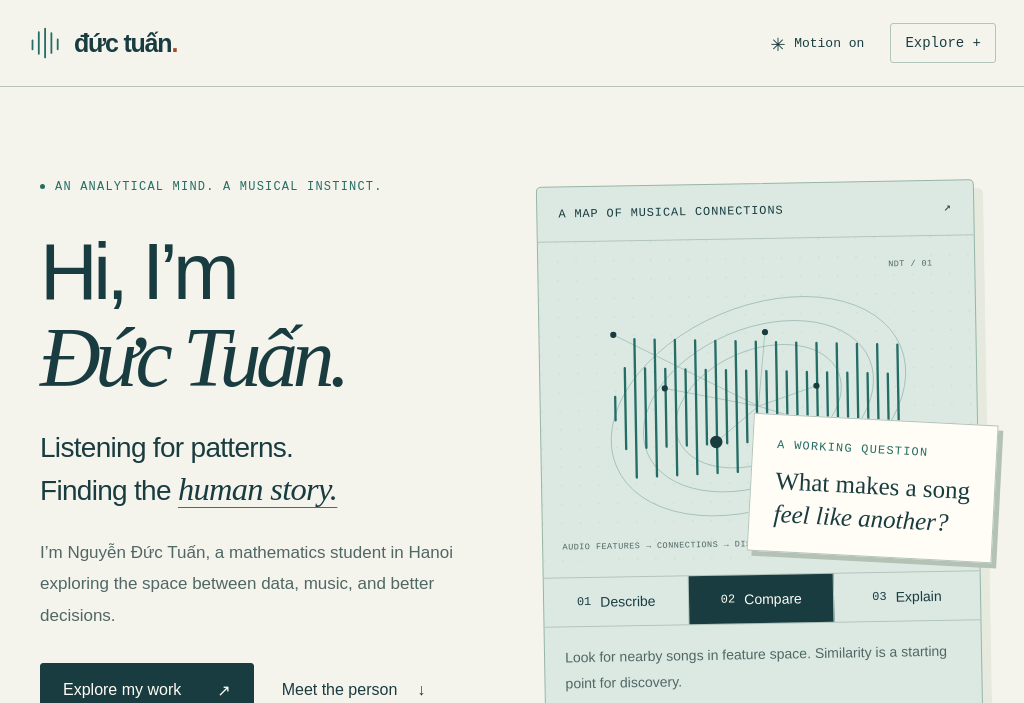
it: Reference-informed public portfolio › opens the compact menu, navigates to a real section, and closes it
Click the button with test id "mobile-menu-toggle" at (943, 43), box x1=890 y1=23 x2=996 y2=63
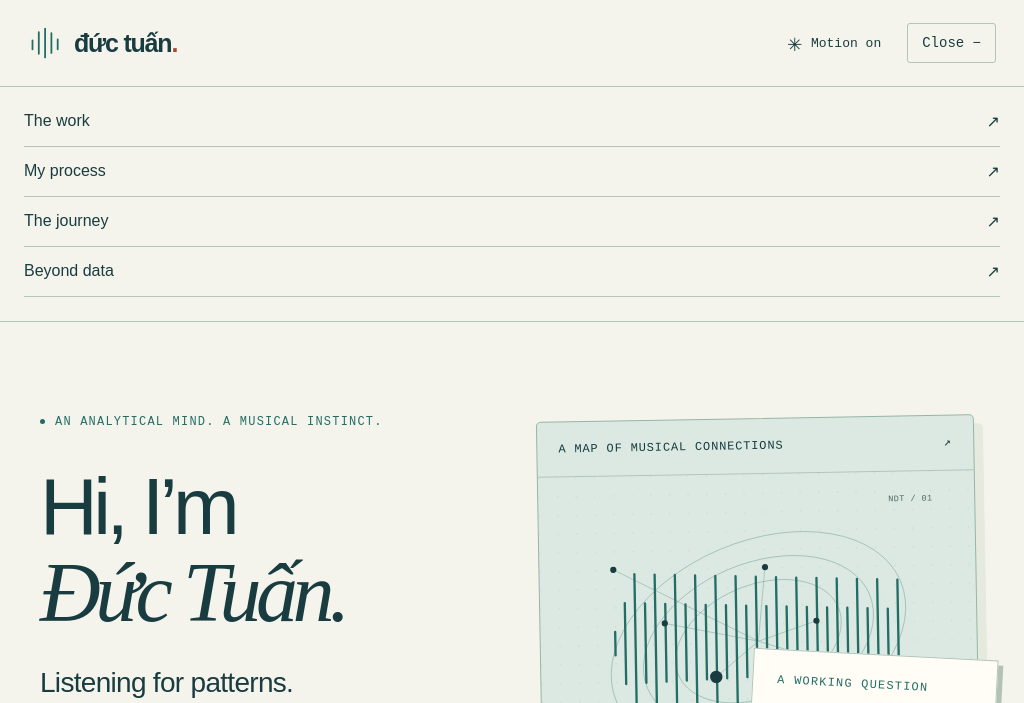
Result: the button with test id "mobile-menu-toggle" is expanded at x1=907 y1=23 x2=996 y2=63
Click the link "The work ↗" at (57, 120), box x1=24 y1=97 x2=1000 y2=147
(page scrolled)
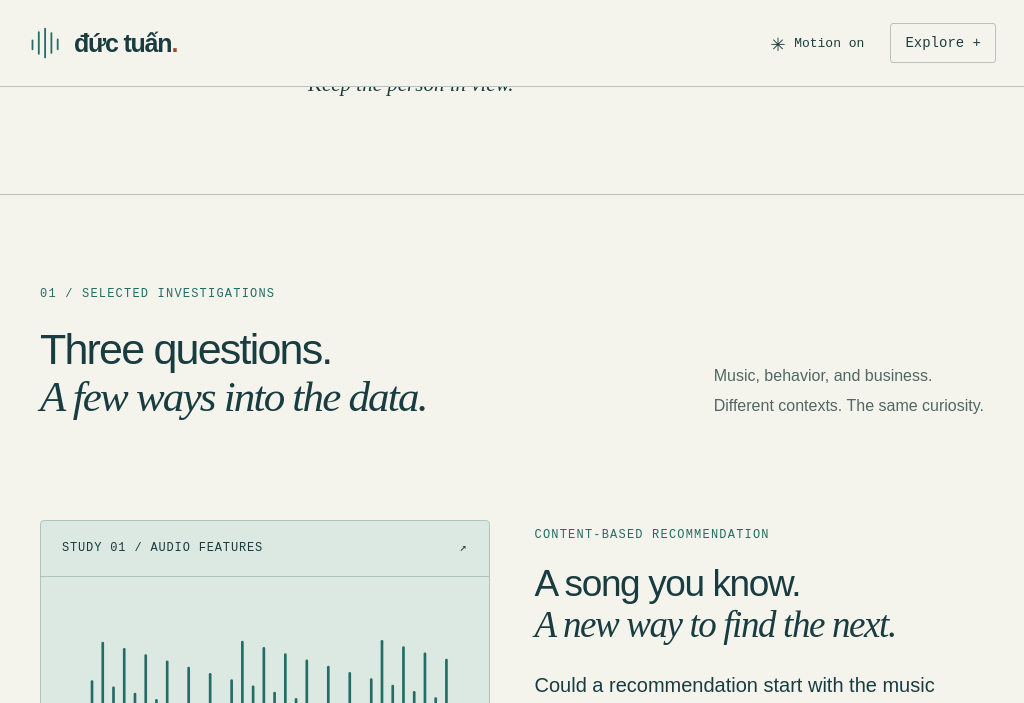
Result: the button with test id "mobile-menu-toggle" is collapsed at x1=890 y1=23 x2=996 y2=63
